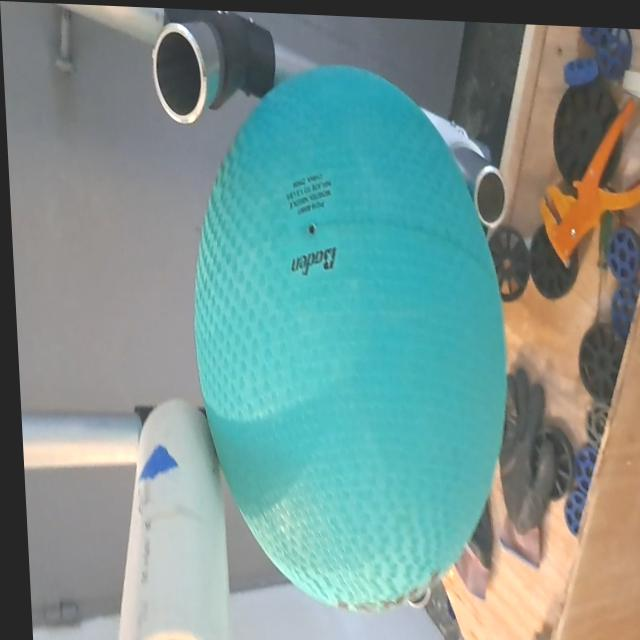ALGAE: (176, 48, 525, 622)
CORAL: (91, 384, 240, 640)
